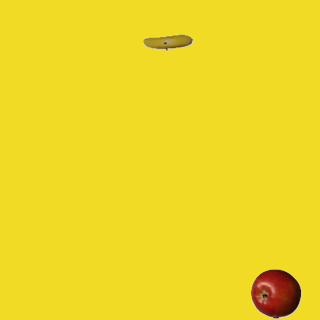Apple Braeburn: (250, 268, 300, 318)
Banana: (142, 17, 192, 67)
